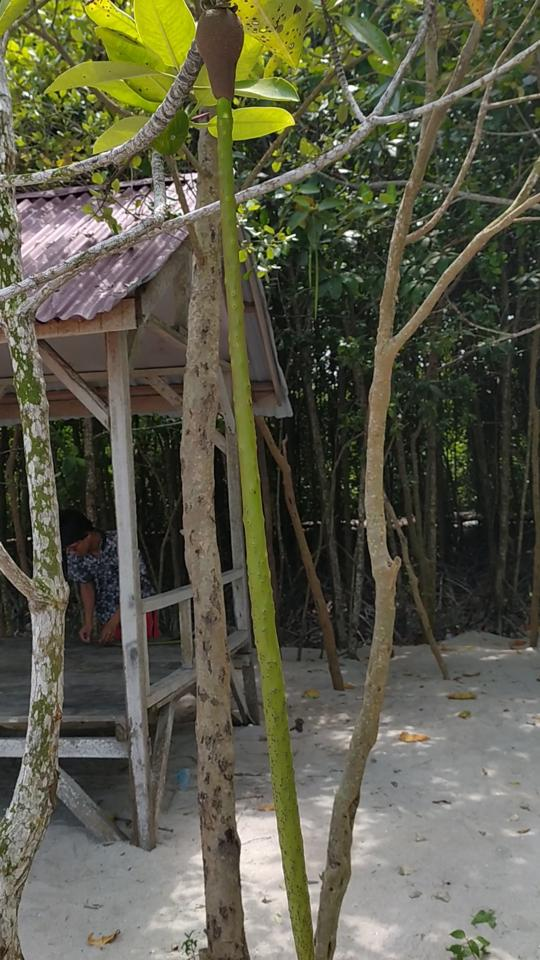mentah: (183, 3, 333, 956)
